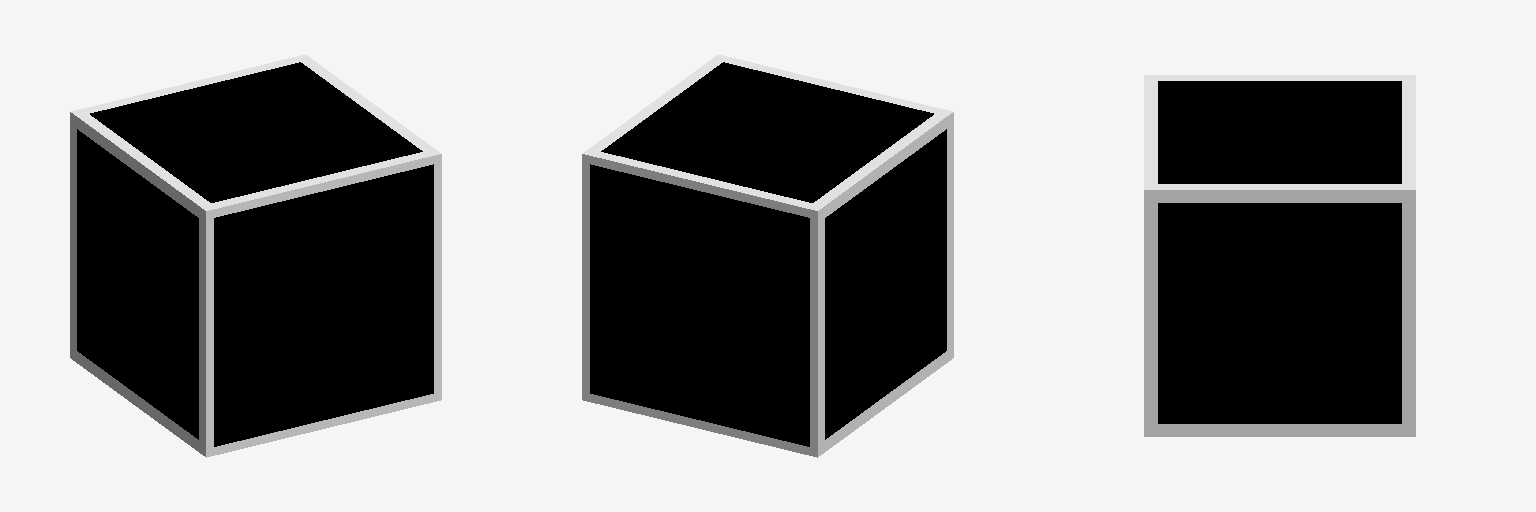
3 renders of one model, left to right at view 1: azimuth 30°, elevation 25°; view 2: azimuth 150°, elevation 25°; view 3: azimuth 270°, elevation 25°, orthographic.
Parts seen in each view (by area): view 1: Cube.001; view 2: Cube.001; view 3: Cube.001.
Boxes of the visible parts, x1=… form: Cube.001: x1=70, y1=54, x2=441, y2=457; Cube.001: x1=582, y1=54, x2=953, y2=457; Cube.001: x1=1144, y1=75, x2=1415, y2=436.
Size of the model in its own units: 2 by 2 by 2.
1 materials, 1 textured.